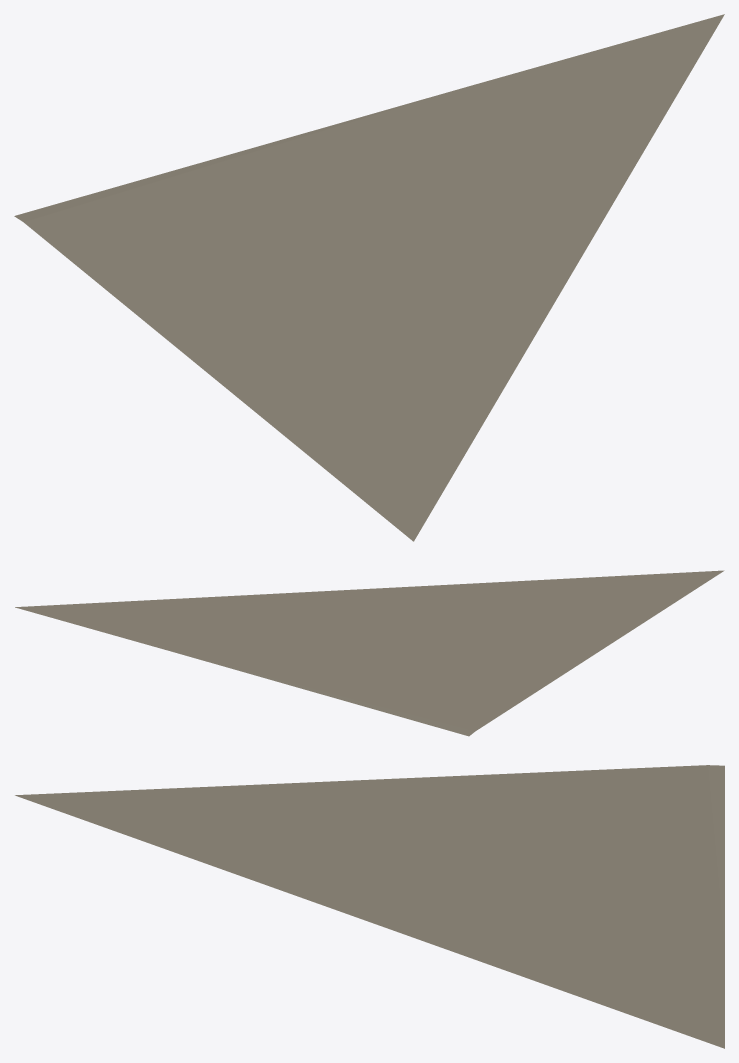
3 views of the same model, one above another, from view 1: azimuth 30°, elevation 25°; view 2: azimuth 150°, elevation 25°; view 3: azimuth 270°, elevation 25° (orthographic). The views are drawn at different scales.
Size of the model in its own units: 0.2187 by 0.0181 by 0.2129.
1 material, 1 textured.
